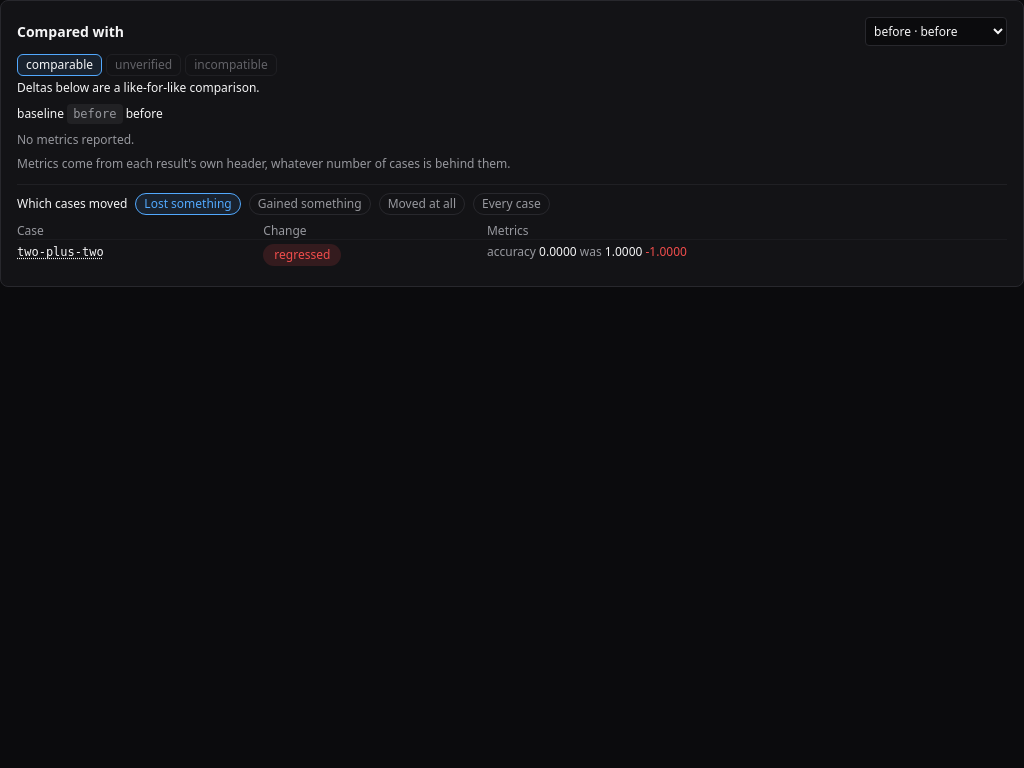
opens a case into what each side answered, read from the route that holds it
The image size is (1024, 768).
Click the button "two-plus-two": point(60, 252) [17,244,104,260]
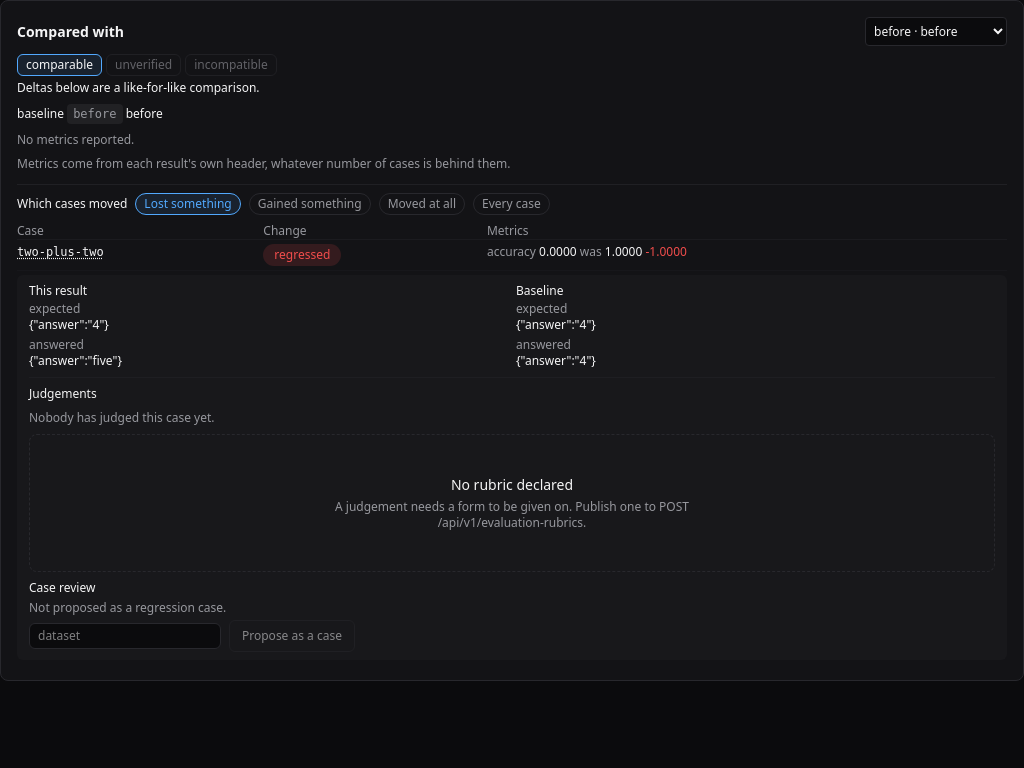
expect the text "{\"answer\":\"five\"}" is shown: met, box [29,352,122,369]
expect the text "{\"answer\":\"4\"}" is shown 3 times: met, box [29,316,109,333]; [516,316,596,333]; [516,352,596,369]
expect the text "Nobody has judged this case yet." is shown: met, box [29,409,214,426]
